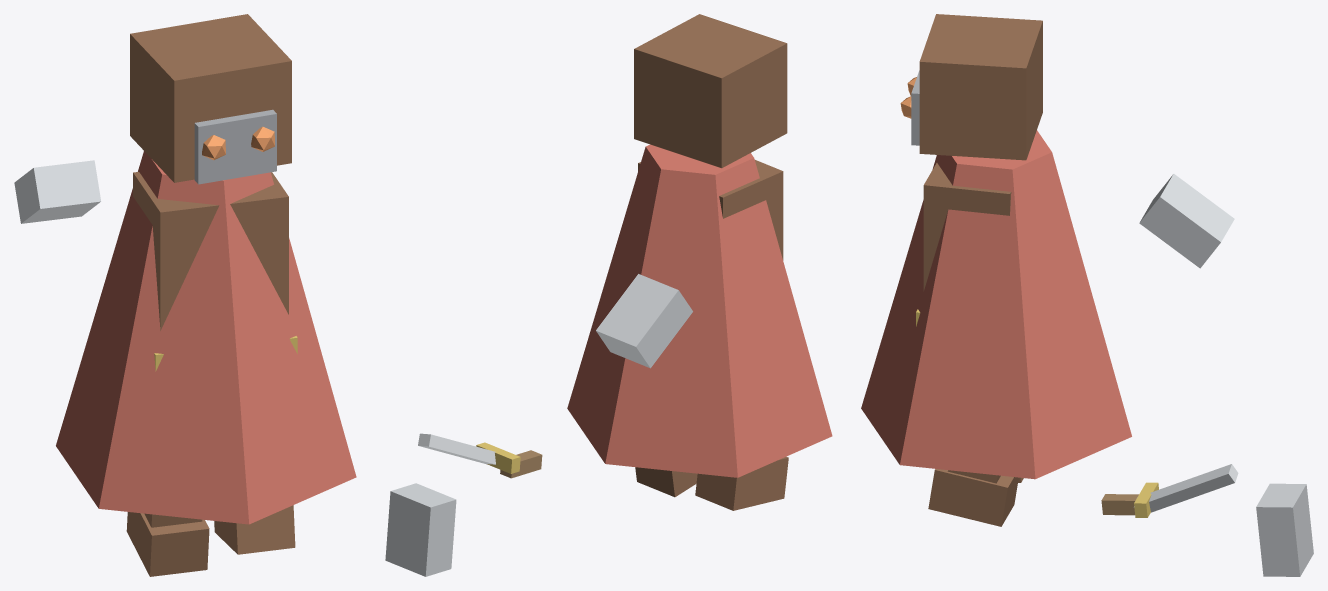
Rendered from npcpose_raider_attack_09.glb.
3 renders of one model, left to right at view 1: azimuth 30°, elevation 25°; view 2: azimuth 150°, elevation 25°; view 3: azimuth 270°, elevation 25°, orthographic. The views are drawn at different scales.
Parts seen in each view (by area): view 1: npcpose; view 2: npcpose; view 3: npcpose.
Boxes of the visible parts, <box> form: npcpose: <box>14,14,356,576</box>; npcpose: <box>385,14,832,576</box>; npcpose: <box>861,14,1313,576</box>.
Size of the model in its own units: 1.04 by 1.58 by 1.43.
